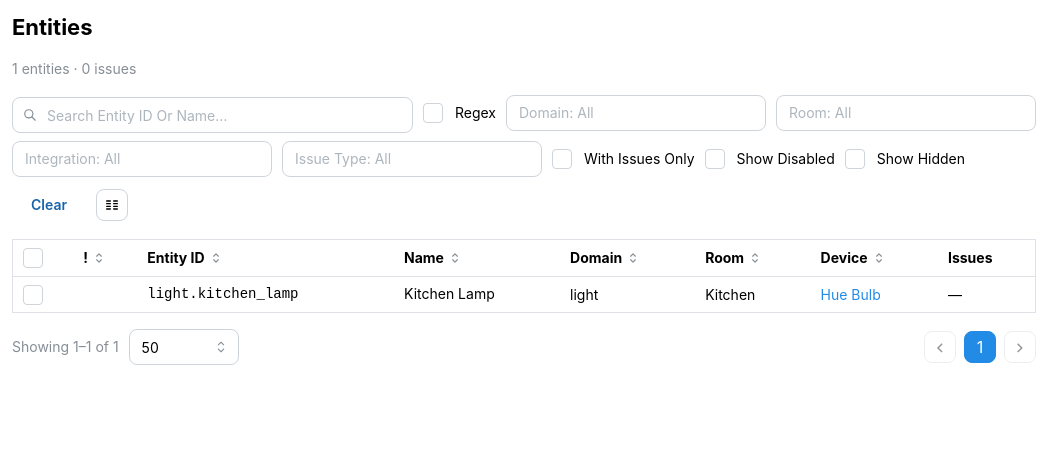
it: EntitiesPage › ActionRow shows only when ≥1 row is selected
Expected: the text "light.kitchen_lamp" is shown, [147,286,298,302]
Expected: the text "Selected" is not shown
Step 1. Click the checkbox named "Select Kitchen Lamp" → click(33, 295), box [23,285,43,305]
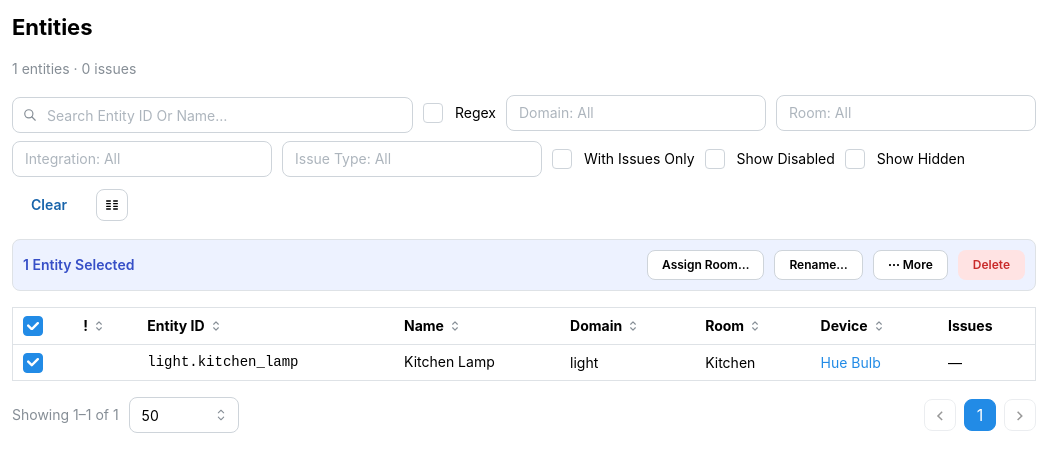
Now the text "1 Entity Selected" is shown, box [23,255,134,275]
